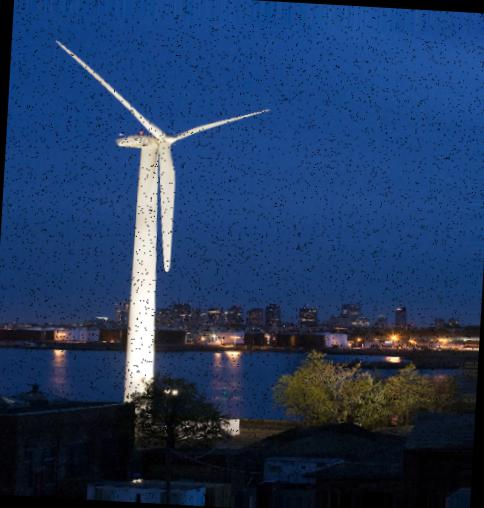wind turbine: (53, 38, 273, 401)
